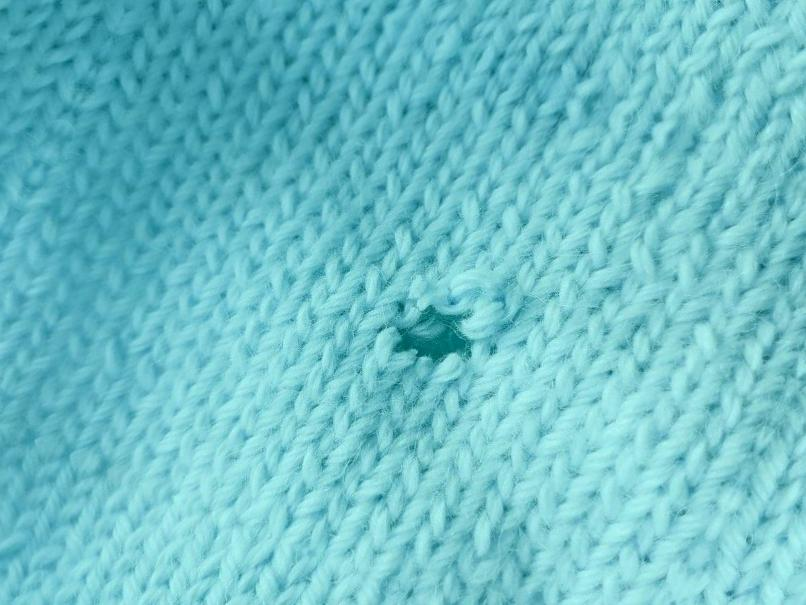hole: (374, 295, 487, 371)
